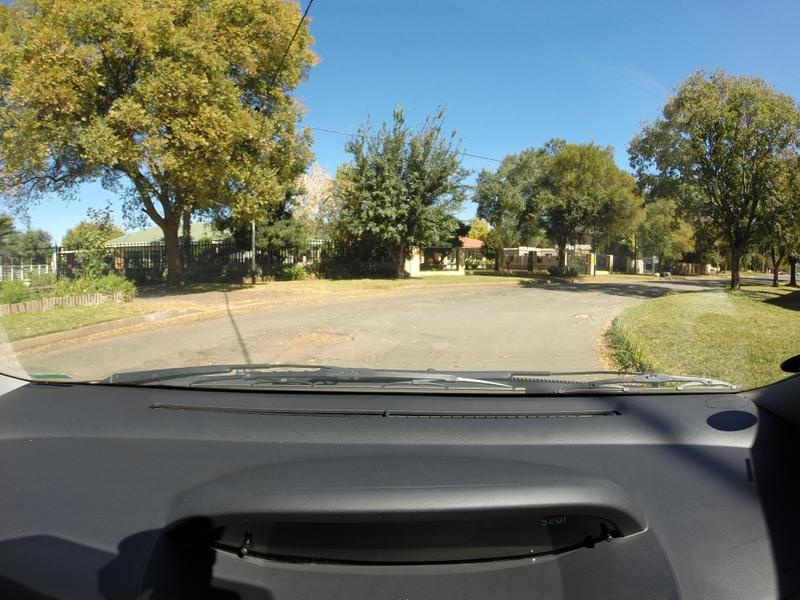pothole: (281, 318, 358, 350)
